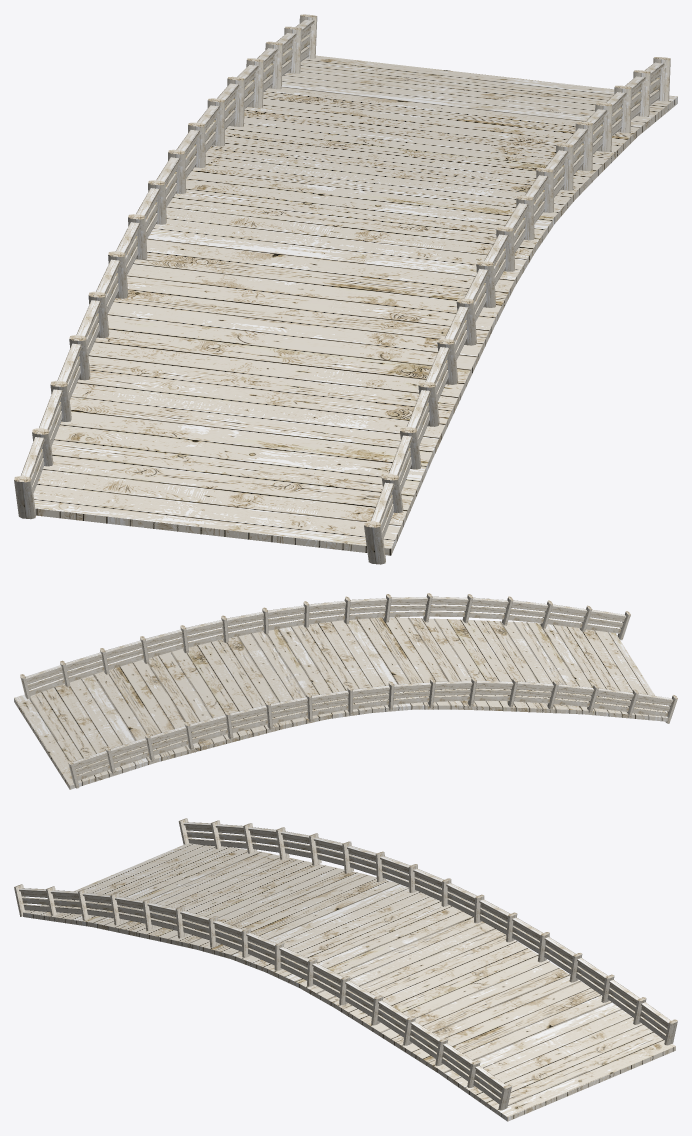
File: Gazebo Bridge straight.fbx
3 views of the same model, one above another, from view 1: azimuth 30°, elevation 25°; view 2: azimuth 150°, elevation 25°; view 3: azimuth 270°, elevation 25° (orthographic). The views are drawn at different scales.
Parts seen in each view (by area): view 1: Cube.016; view 2: Cube.016; view 3: Cube.016.
Part boxes in pixels (box(x1,y1,x2,y2)): Cube.016: box(14, 14, 677, 564); Cube.016: box(14, 593, 677, 789); Cube.016: box(14, 818, 677, 1121).
Size of the model in its own units: 1076 by 143 by 1083.
